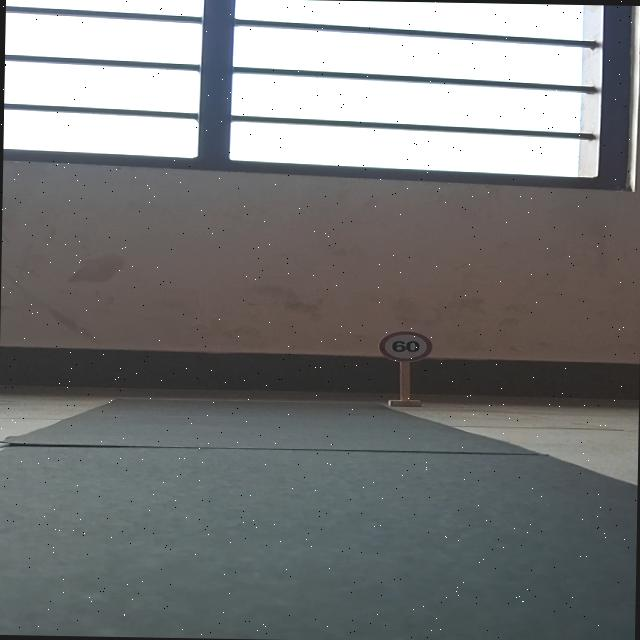Speed60: (373, 328, 437, 363)
